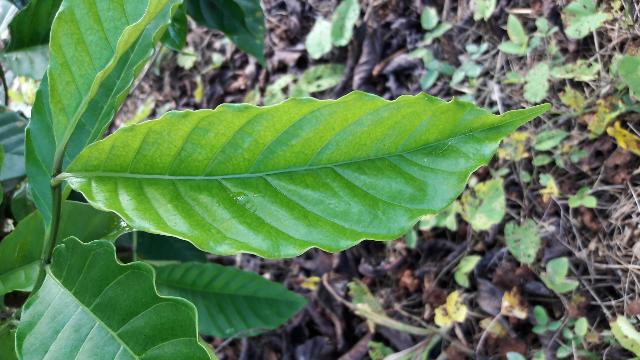healthy: (66, 90, 551, 260)
